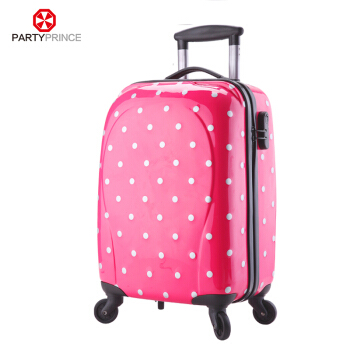suitcase: (94, 25, 280, 342)
